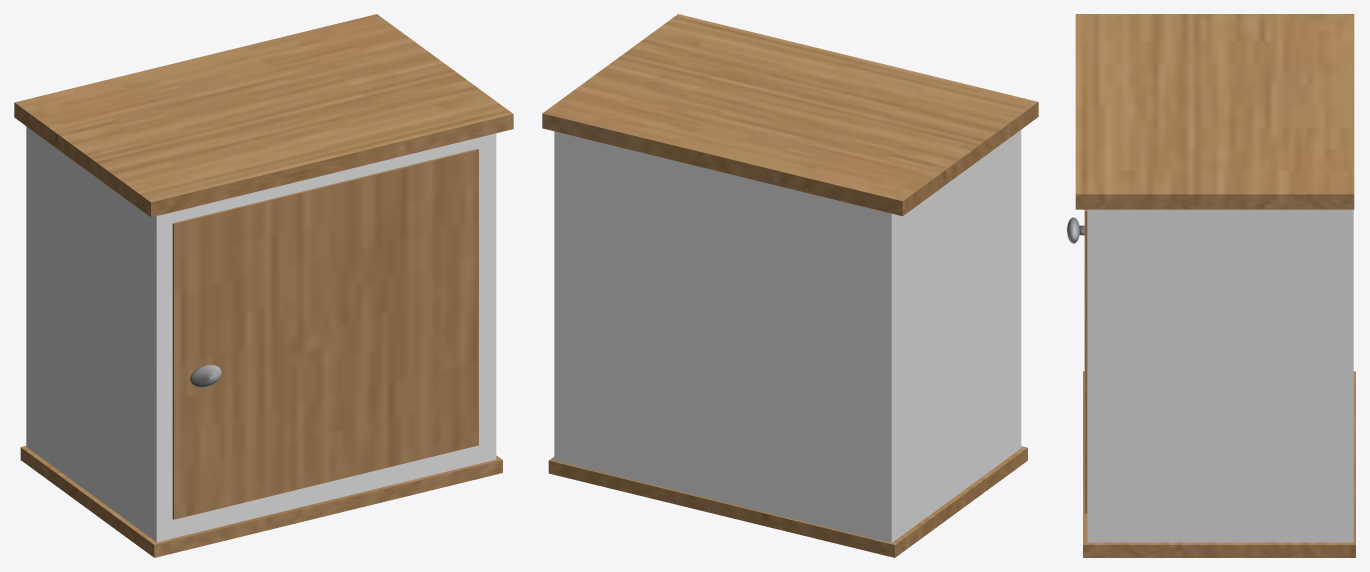
File: Floating Cupboard (left).fbx
3 views of the same model, side by side, from view 1: azimuth 30°, elevation 25°; view 2: azimuth 150°, elevation 25°; view 3: azimuth 270°, elevation 25° (orthographic). The views are drawn at different scales.
Parts seen in each view (by area): view 1: Door 1, Base, Counter, Base.001; view 2: Base, Counter, Base.001; view 3: Base, Counter, Base.001, Door 1.
Boxes of the visible parts, left/top/right/bottom form: Door 1: left=172, top=149, right=478, bottom=519; Base: left=26, top=126, right=496, bottom=542; Counter: left=14, top=14, right=513, bottom=217; Base.001: left=20, top=446, right=502, bottom=557; Base: left=554, top=130, right=1021, bottom=542; Counter: left=542, top=14, right=1038, bottom=216; Base.001: left=548, top=446, right=1027, bottom=557; Base: left=1087, top=209, right=1353, bottom=542; Counter: left=1075, top=14, right=1354, bottom=209; Base.001: left=1083, top=371, right=1355, bottom=557; Door 1: left=1084, top=209, right=1087, bottom=513.
Size of the model in its own units: 0.6648 by 0.6306 by 0.4498.
